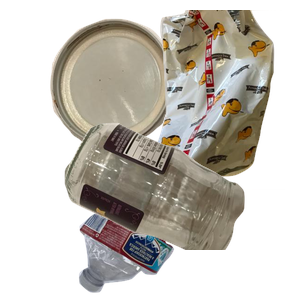glass: (62, 120, 300, 300)
metal: (47, 16, 214, 157)
plastic: (76, 131, 280, 300)
trash: (127, 10, 300, 190)
